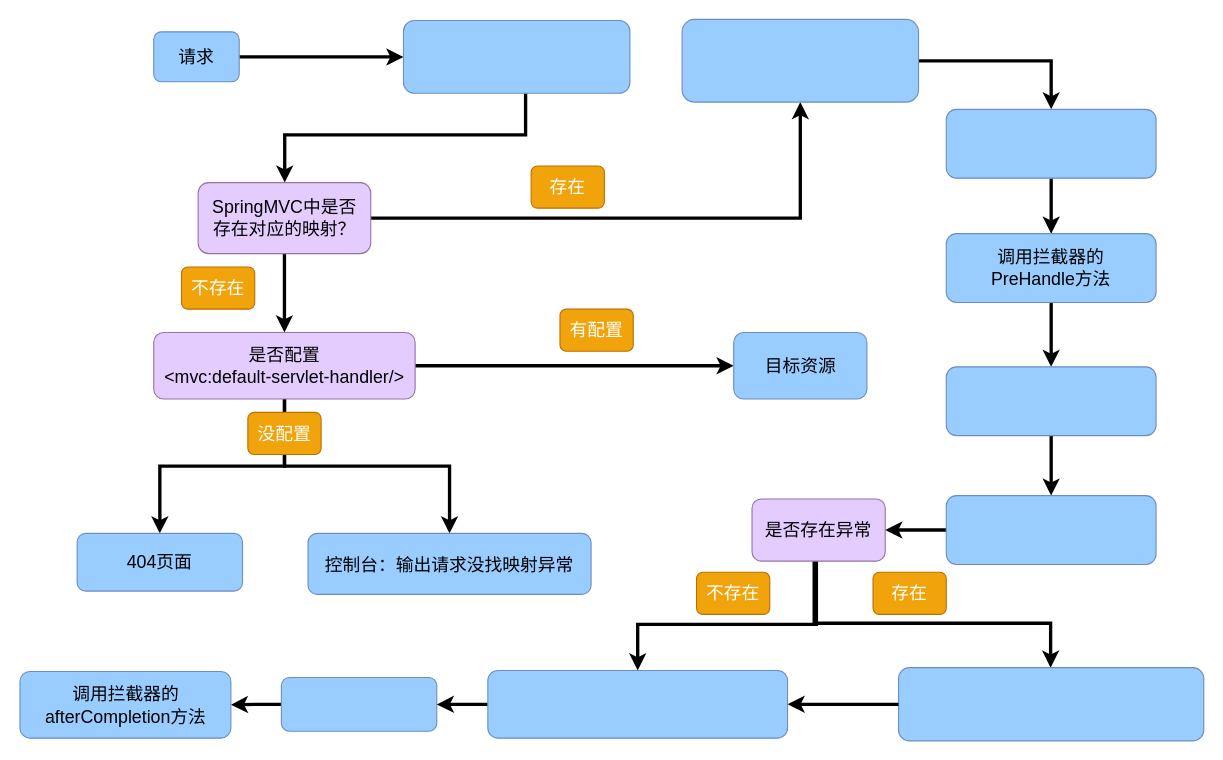
This 1223x760 diagram has some shape labels left out. The centre of each missing label's shape, as x and y in pixels:
"springDispatcherServlet 的 url -pattern" goes at point 516,56.
"渲染视图" goes at point 358,703.
"由 HandlerExceptionResolver 组件处理异常，得到新的 ModelAndView 对象" goes at point 1050,704.
"由 HandlerMapping 获 取 HandlerExecutionChain 对象" goes at point 800,60.
"由 ViewResolver 组件根据 ModelAndView 对象得到实际的 View" goes at point 637,703.
"获取 HandlerAdapter 对象" goes at point 1050,143.
"调用拦截器的 p ostHandle 方法" goes at point 1050,529.
"调用目标 Handler 的目标 方法得到 ModelAndView 对象" goes at point 1050,401.
